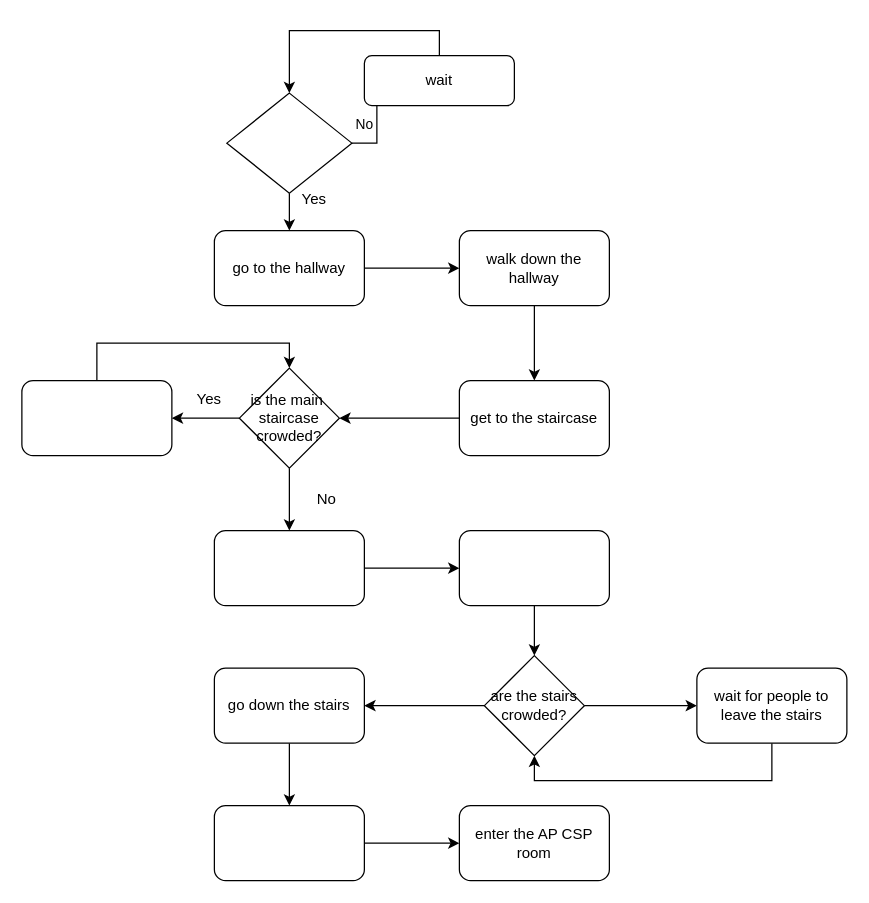
Image size: 869x903. Some labels were removed from this diagram. The shapes that lost their labels are listed below. From the top down, each one's centre as x and y in pixels, then its label:
(289,142): 2nd period over?
(96,417): wait for people to leave the staircase
(288,567): walk down the staircase from the 3rd floor to the 1st
(533,567): pass by the commons and enter the art/computer wing
(288,842): go down the hallway
